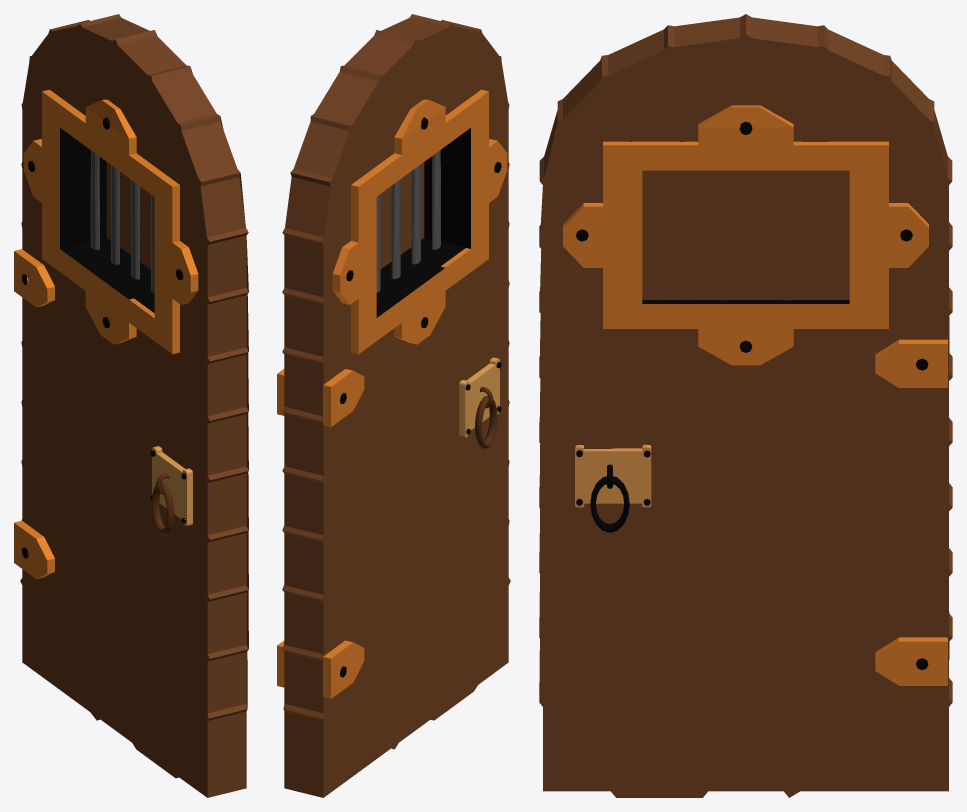
File: Door.fbx
3 views of the same model, side by side, from view 1: azimuth 30°, elevation 25°; view 2: azimuth 150°, elevation 25°; view 3: azimuth 270°, elevation 25° (orthographic). The views are drawn at different scales.
Parts seen in each view (by area): view 1: Door, Handle; view 2: Door, Handle; view 3: Door, Handle2.
Boxes of the visible parts, x1,y1,x2,y2 form: Door: (14, 14, 248, 797); Handle: (150, 446, 192, 535); Door: (277, 14, 510, 797); Handle: (459, 357, 501, 448); Door: (539, 14, 952, 797); Handle2: (575, 444, 651, 532).
Size of the model in its own units: 19.69 by 177 by 86.82.
